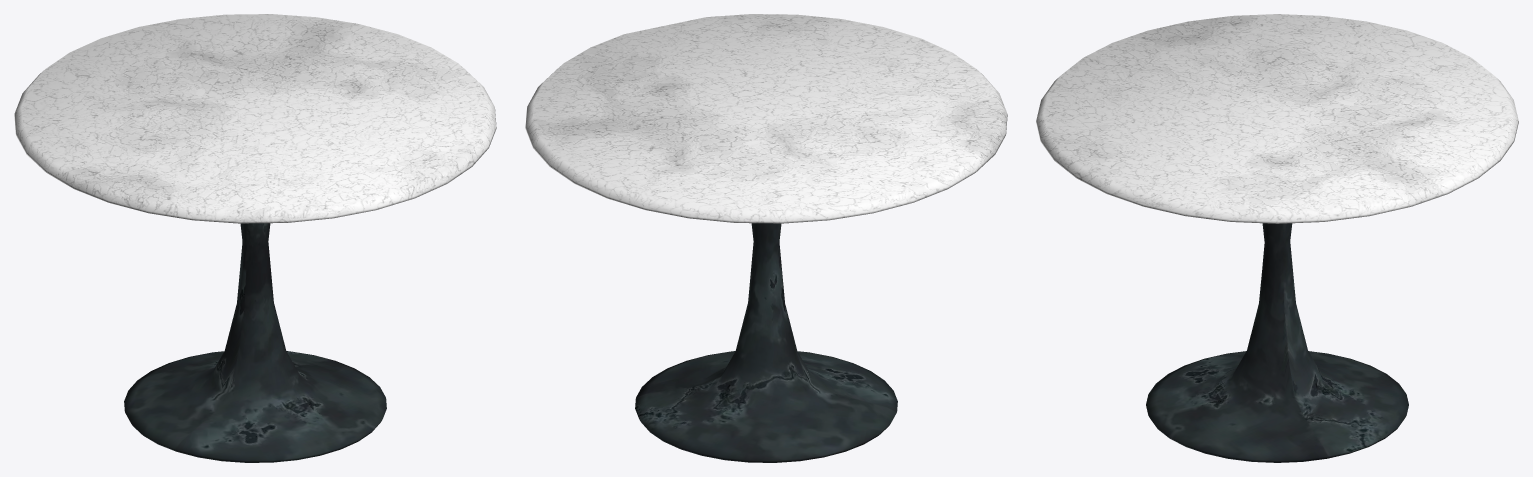
The model's file is table_002.glb.
The picture shows the model from 3 angles, left to right: view 1: azimuth 30°, elevation 25°; view 2: azimuth 150°, elevation 25°; view 3: azimuth 270°, elevation 25°; orthographic projection.
Visible parts, largest first — view 1: table_002; view 2: table_002; view 3: table_002.
Boxes of the visible parts, <box> form: table_002: <box>14,14,496,462</box>; table_002: <box>525,14,1007,462</box>; table_002: <box>1036,14,1518,462</box>.
Size of the model in its own units: 0.9806 by 0.6646 by 0.9806.
Materials: 1 (1 with a texture image).
